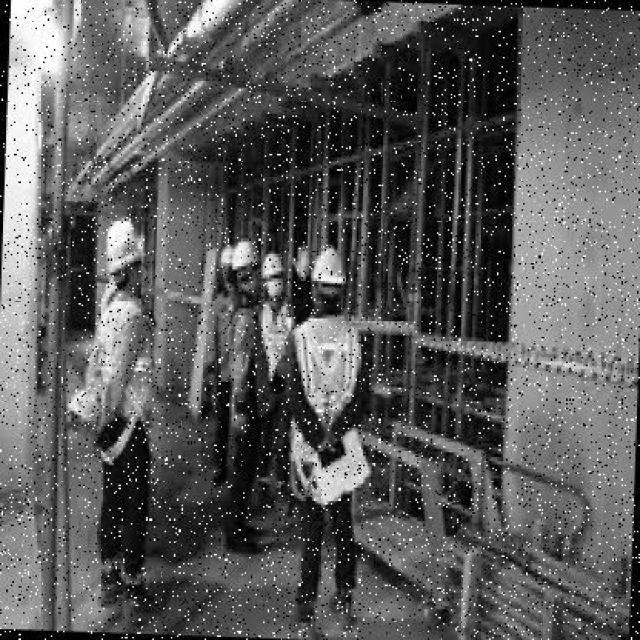Arnes_seguridad: (293, 313, 364, 509), (87, 301, 160, 468), (258, 301, 294, 350)
